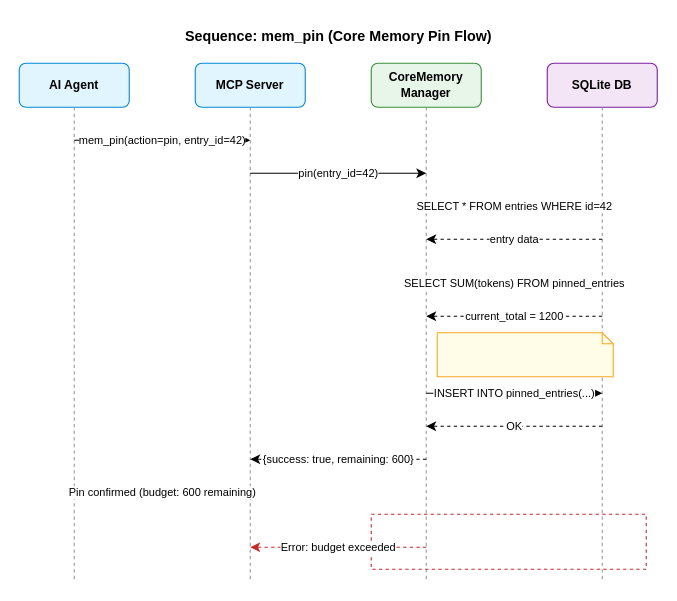
The diagram is 677 pixels wide and 601 high, and some of its shapes have lost their labels. Each missing label, with the centre of its shape:
"alt [Budget Exceeded]" belongs at [508,541].
"Budget check: 1200 + entry.tokens < 2000?" belongs at [524,354].
